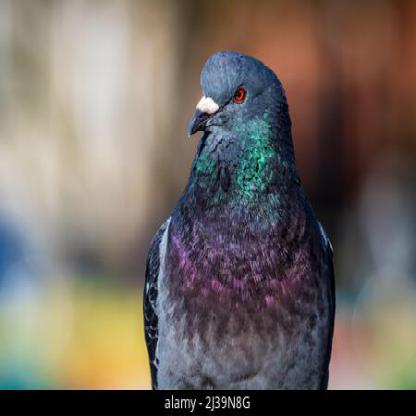Rock Pigeon: (143, 49, 332, 391)
